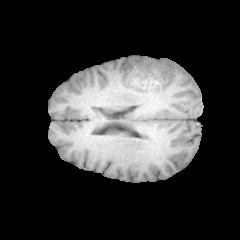glioma: (120, 57, 171, 98)
